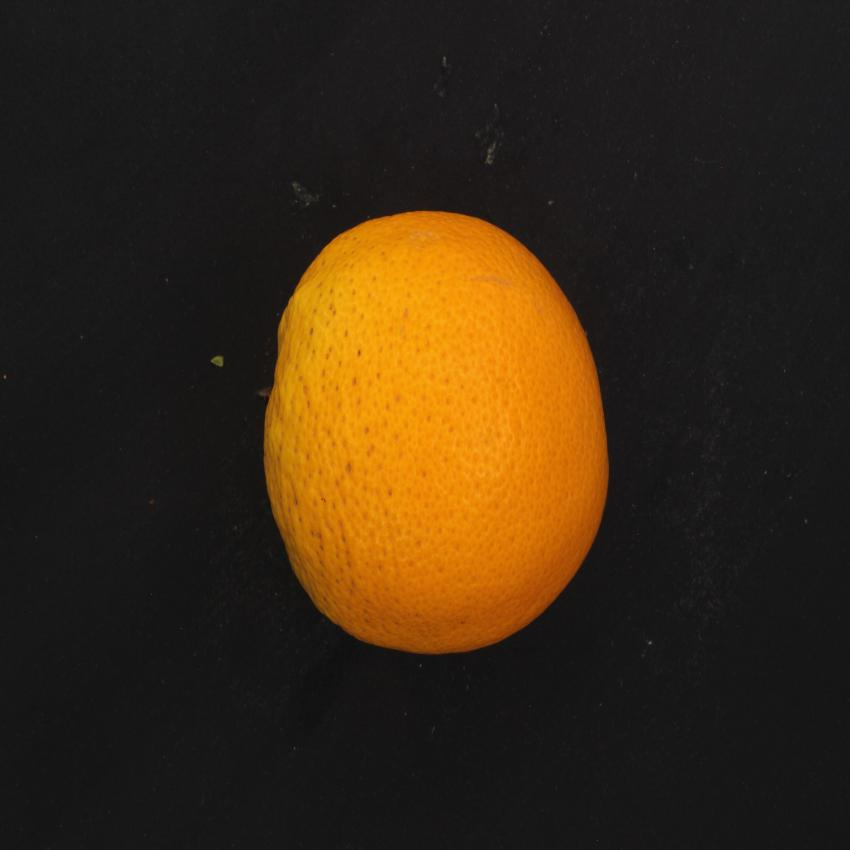Buen estado: (254, 197, 618, 676)
